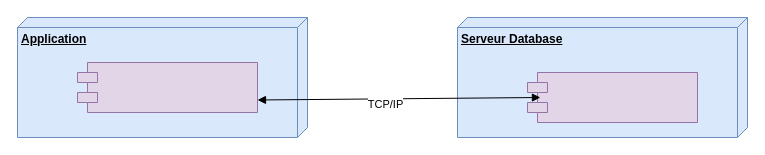
Some shapes in this 765 by 155 pixel diagram are drawn without their labels. Here are the shapes that lost their labels. From the top down, the centre of each, then its label:
At (167,87): "DatabaseManager".
At (612,97): "MySQL Database".
